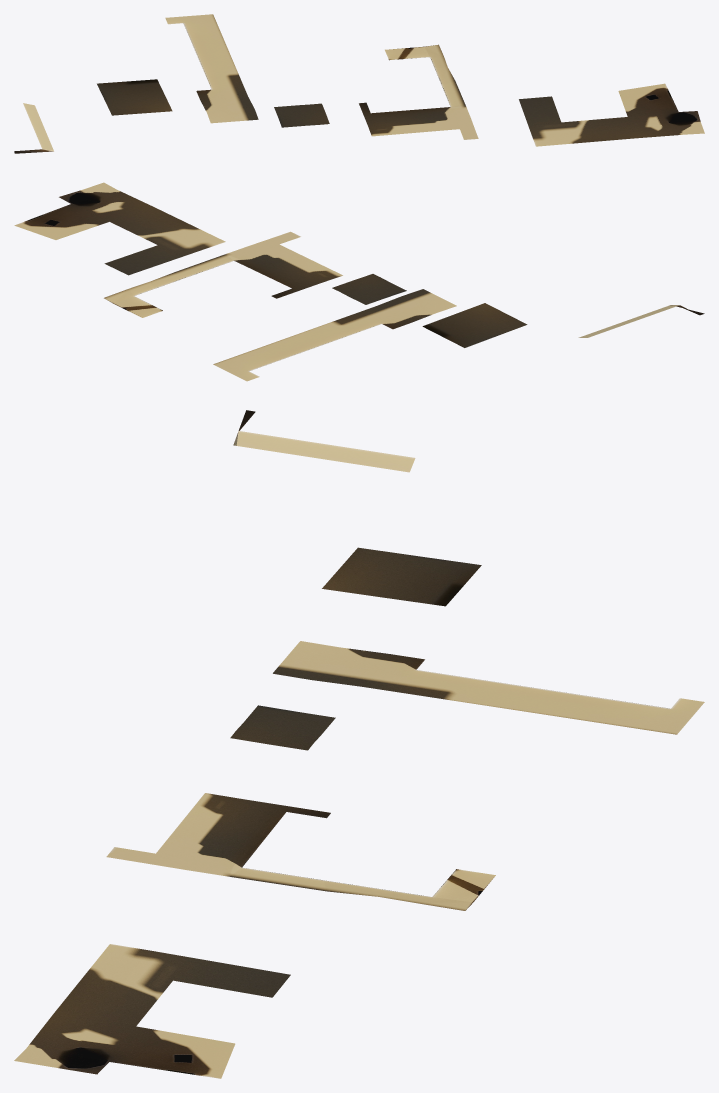
The model's file is Roads_Squares.fbx.
3 views of the same model, one above another, from view 1: azimuth 30°, elevation 25°; view 2: azimuth 150°, elevation 25°; view 3: azimuth 270°, elevation 25° (orthographic). The views are drawn at different scales.
Visible parts, largest first — view 1: Roads_Squares; view 2: Roads_Squares; view 3: Roads_Squares.
Boxes of the visible parts, x1,y1,x2,y2 form: Roads_Squares: (14, 14, 704, 153); Roads_Squares: (14, 182, 704, 381); Roads_Squares: (14, 410, 704, 1078).
Size of the model in its own units: 110 by 13.29 by 60.47.
Materials: 1 (1 with a texture image).
